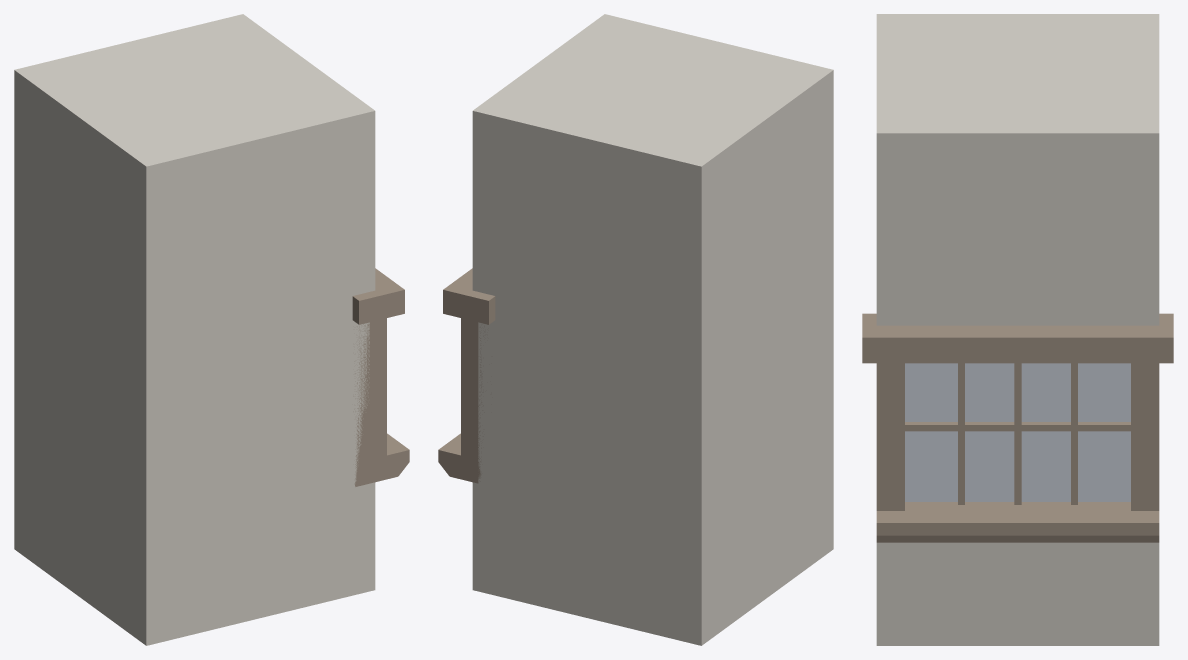
Rendered from Stucco_Window_Double_Narrow_Tall.glb.
3 views of the same model, side by side, from view 1: azimuth 30°, elevation 25°; view 2: azimuth 150°, elevation 25°; view 3: azimuth 270°, elevation 25° (orthographic). The views are drawn at different scales.
Parts seen in each view (by area): view 1: object1, object3; view 2: object1, object3; view 3: object1, object3, object2.
Part boxes in pixels (bbox=[...]): object1: bbox=[14, 14, 375, 645]; object3: bbox=[352, 268, 409, 486]; object1: bbox=[472, 14, 833, 645]; object3: bbox=[438, 268, 495, 483]; object1: bbox=[876, 14, 1159, 645]; object3: bbox=[862, 313, 1173, 542]; object2: bbox=[905, 363, 1130, 504].
Bounding box in the file's own units: 1.15 × 2 × 1.1.
